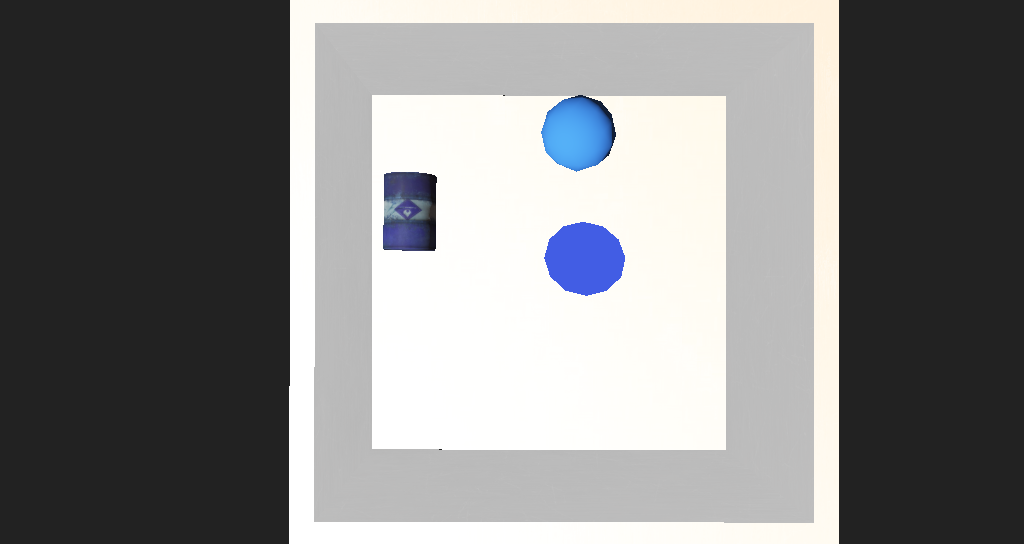cone: (357, 205, 411, 253)
cylinder: (502, 239, 563, 296)
sphere: (502, 165, 563, 208)
